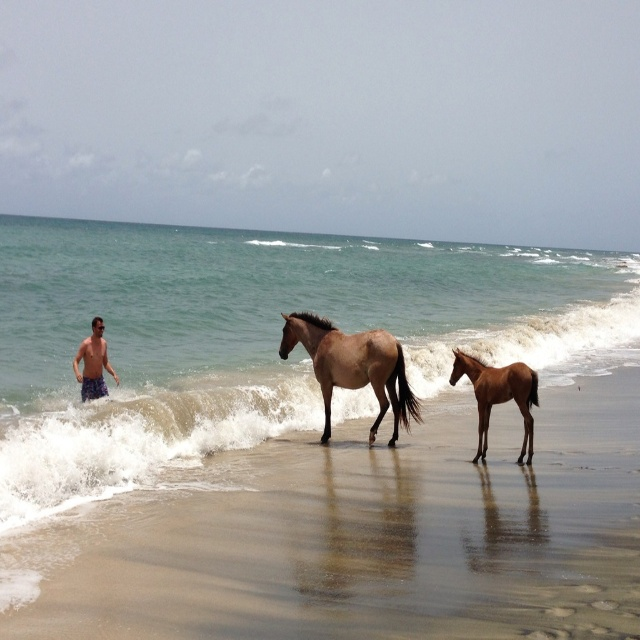Horse: (277, 308, 427, 453), (448, 348, 541, 468)
